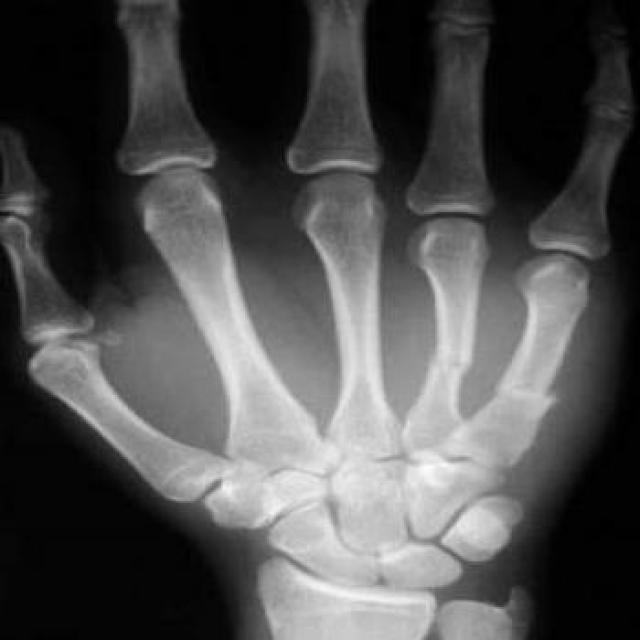Fracture: (482, 371, 570, 414), (408, 348, 490, 382)
